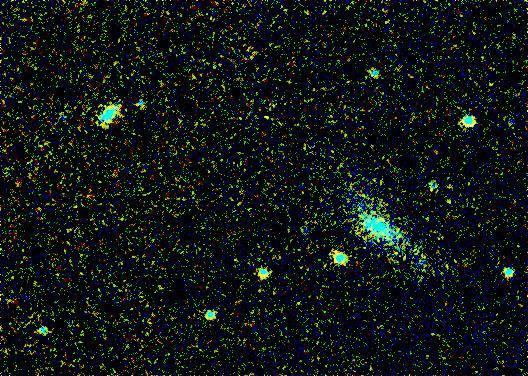star: (253, 104, 283, 134)
